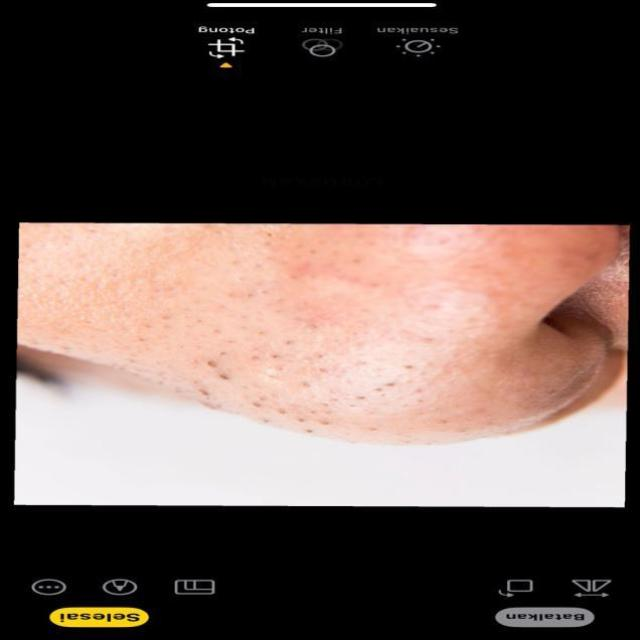blackhead: (172, 327, 448, 439)
